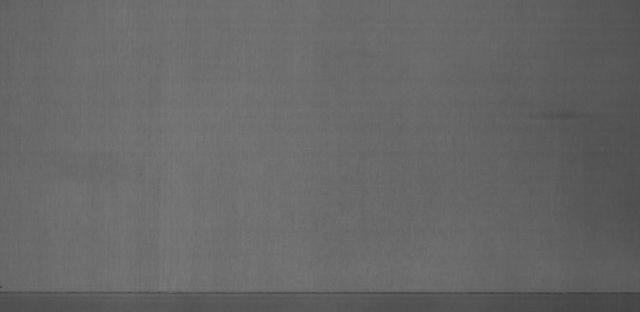welding_line: (3, 284, 640, 303)
